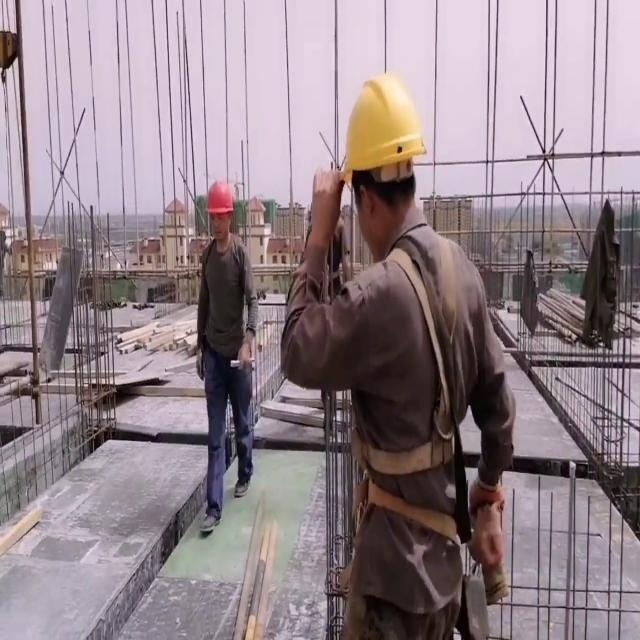Arnes_seguridad: (350, 229, 481, 499)
